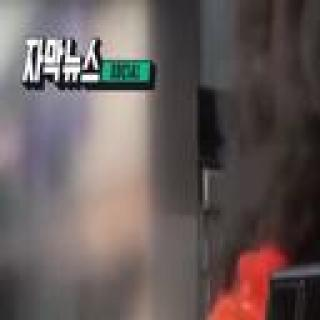fire: (222, 244, 288, 320)
